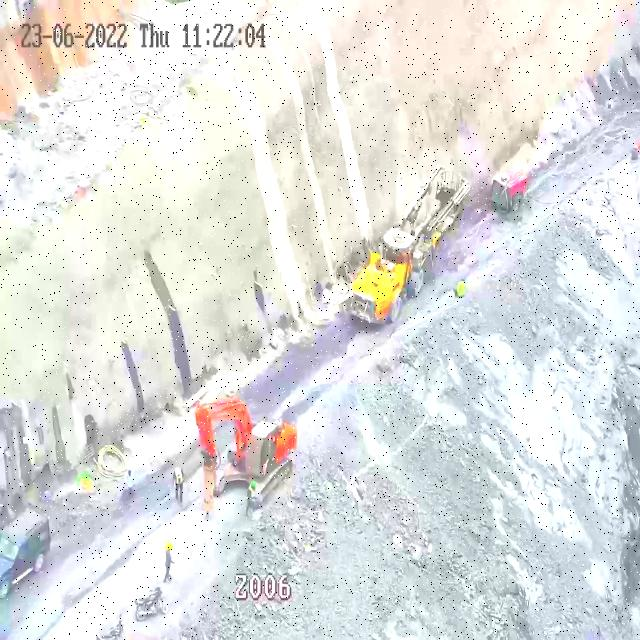Helmet: (175, 466, 180, 476), (165, 544, 171, 552), (251, 481, 256, 488), (460, 276, 466, 280)
